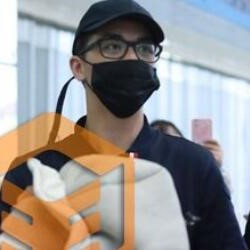mask: (80, 52, 160, 121)
